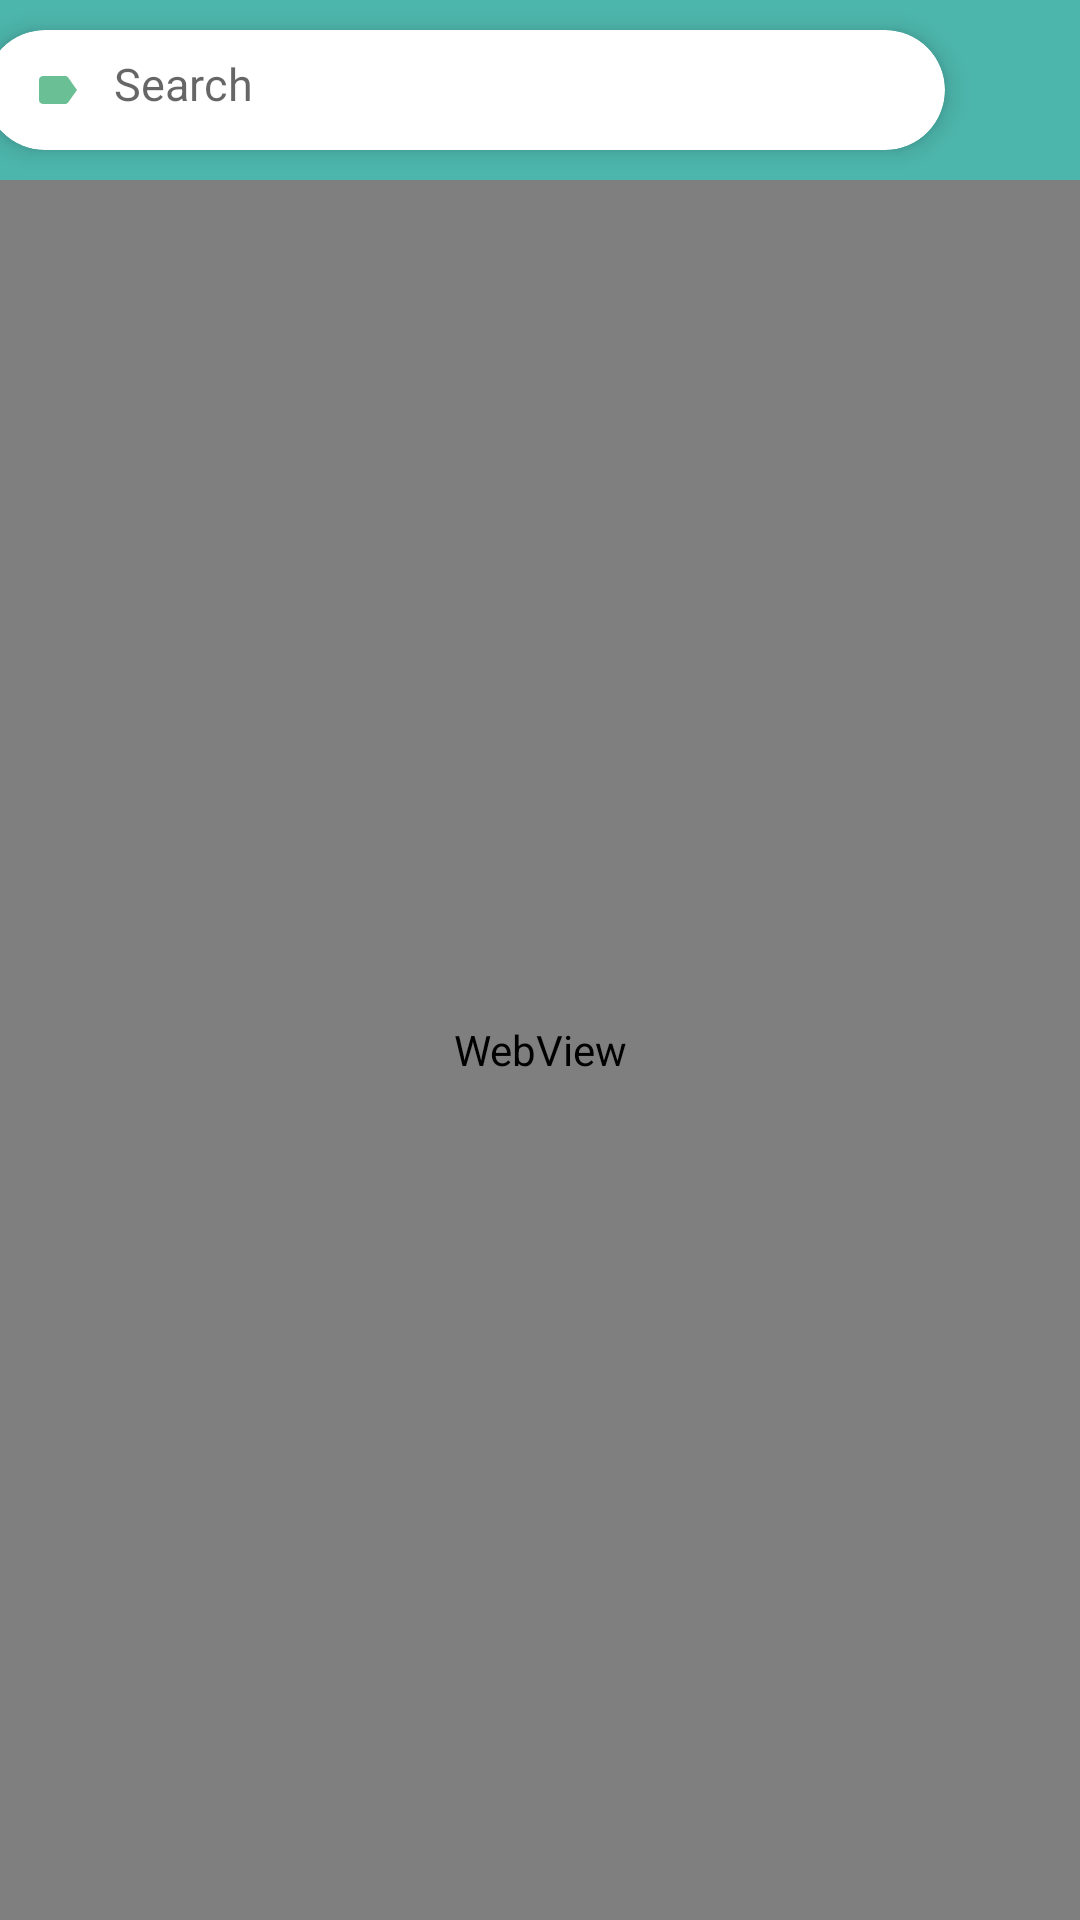

Screen size 1080×1920. Icon name, then its center in pixels as (x,y):
label: (58,90)
